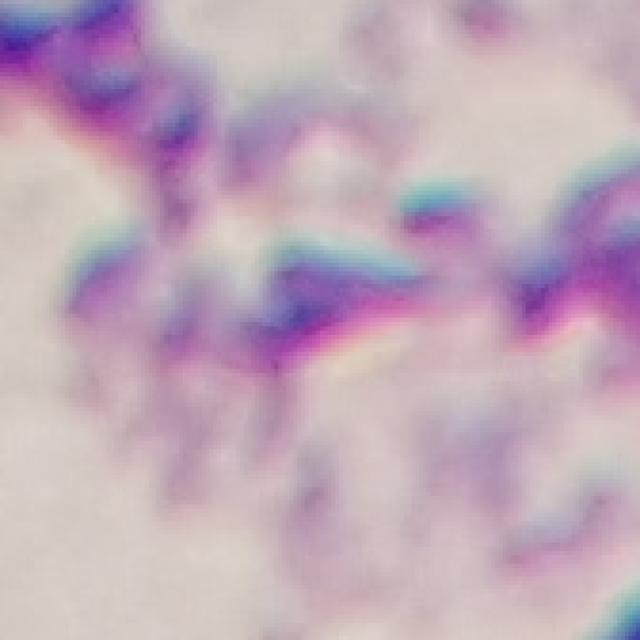non-sperm: (226, 230, 434, 368)
